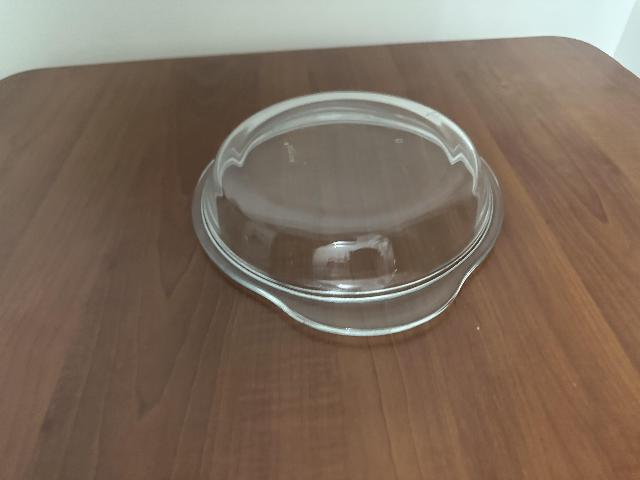Cam: (191, 86, 506, 339)
